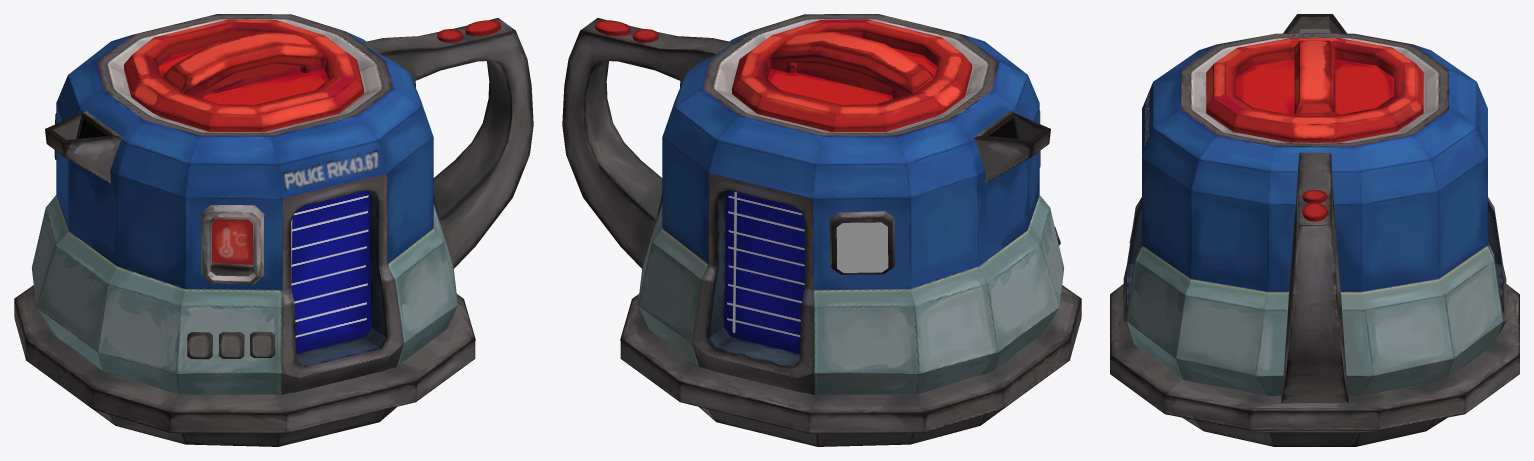
Rendered from teapot_low.fbx.
3 views of the same model, side by side, from view 1: azimuth 30°, elevation 25°; view 2: azimuth 150°, elevation 25°; view 3: azimuth 270°, elevation 25° (orthographic). The views are drawn at different scales.
Parts seen in each view (by area): view 1: BASE.004, ROOF, panel; view 2: BASE.004, ROOF, panel; view 3: BASE.004, ROOF.
Part boxes in pixels (x1,y1,x2,y2): BASE.004: [14, 14, 533, 446]; ROOF: [124, 19, 363, 131]; panel: [291, 190, 371, 353]; BASE.004: [562, 14, 1081, 446]; ROOF: [732, 19, 971, 131]; panel: [724, 190, 804, 353]; BASE.004: [1110, 14, 1519, 446]; ROOF: [1206, 38, 1423, 142].
Size of the model in its own units: 285 by 225 by 193.
